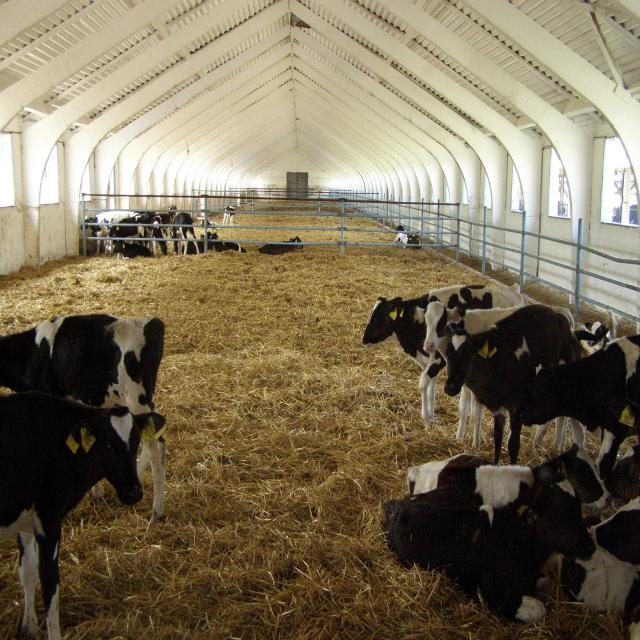cow: (383, 444, 611, 625), (0, 387, 164, 638), (0, 312, 167, 521), (362, 282, 526, 431), (441, 302, 584, 465), (520, 332, 639, 481), (406, 443, 612, 520), (81, 207, 141, 256), (107, 212, 151, 260), (167, 203, 201, 257), (258, 236, 303, 254), (392, 224, 408, 245), (222, 205, 236, 225), (406, 232, 422, 249)
